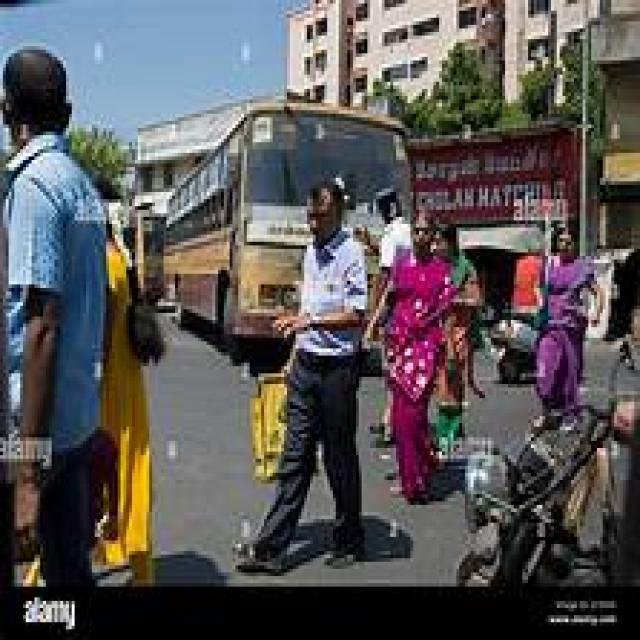Bus: (167, 104, 411, 347)
